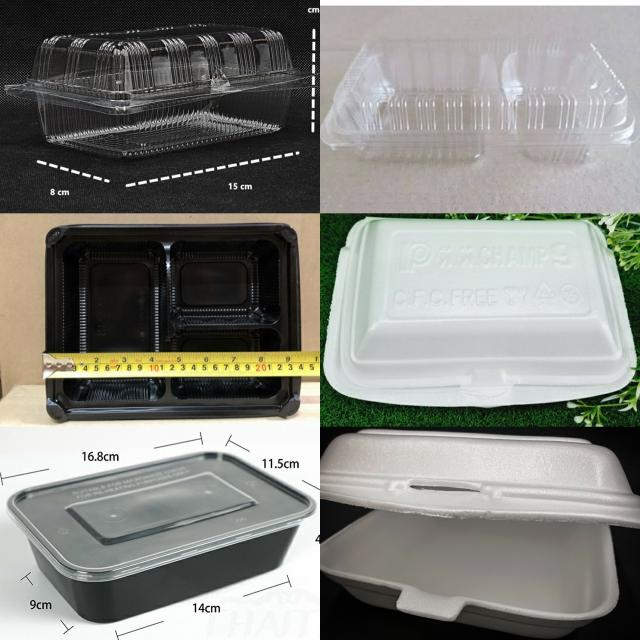Single-Use-Plastic: (320, 430, 639, 638), (324, 218, 635, 407), (44, 224, 309, 421), (8, 452, 315, 621), (6, 25, 309, 157), (322, 39, 635, 162)
